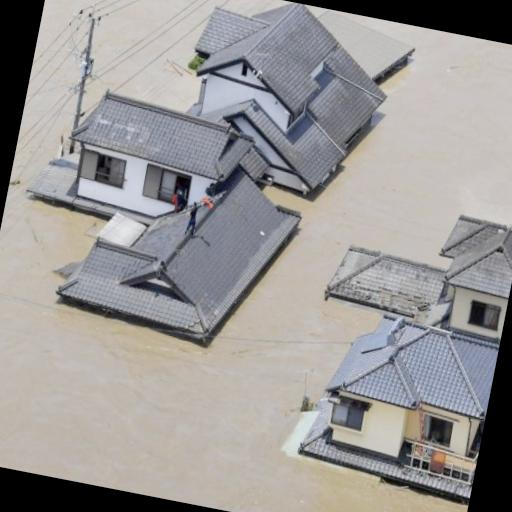flood: (0, 4, 512, 512), (85, 0, 247, 111), (20, 8, 76, 157)
house: (49, 122, 324, 367), (141, 0, 433, 219), (309, 303, 502, 512), (57, 80, 261, 228), (436, 214, 512, 308), (320, 393, 372, 437)
